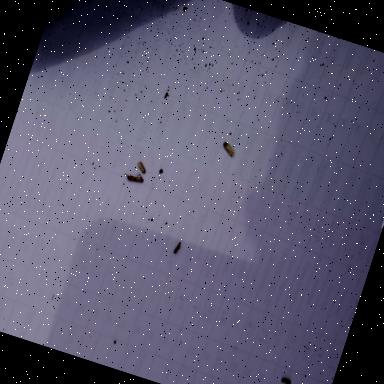pbw: (122, 169, 144, 184), (221, 142, 239, 158), (134, 160, 148, 174), (172, 240, 182, 256)
